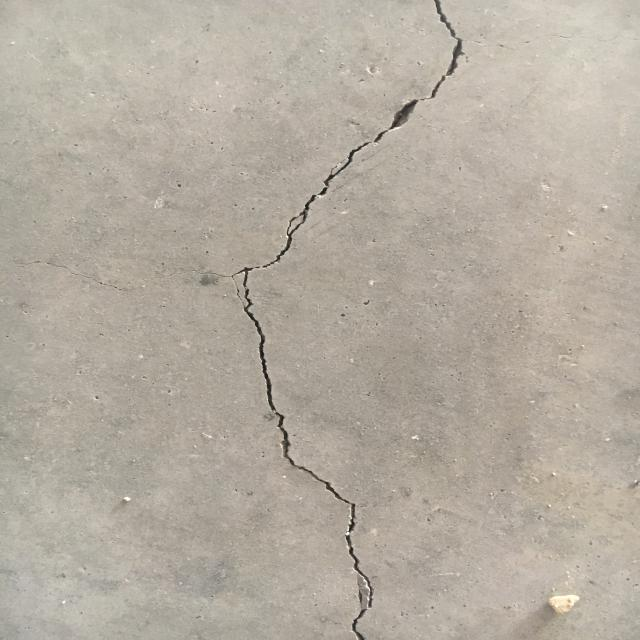Rachadura: (230, 141, 373, 640), (373, 0, 463, 143)
